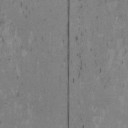surface scratch: (67, 0, 70, 128)
